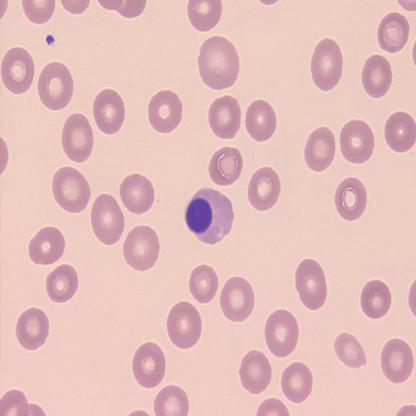NRC: (184, 197, 214, 236)
